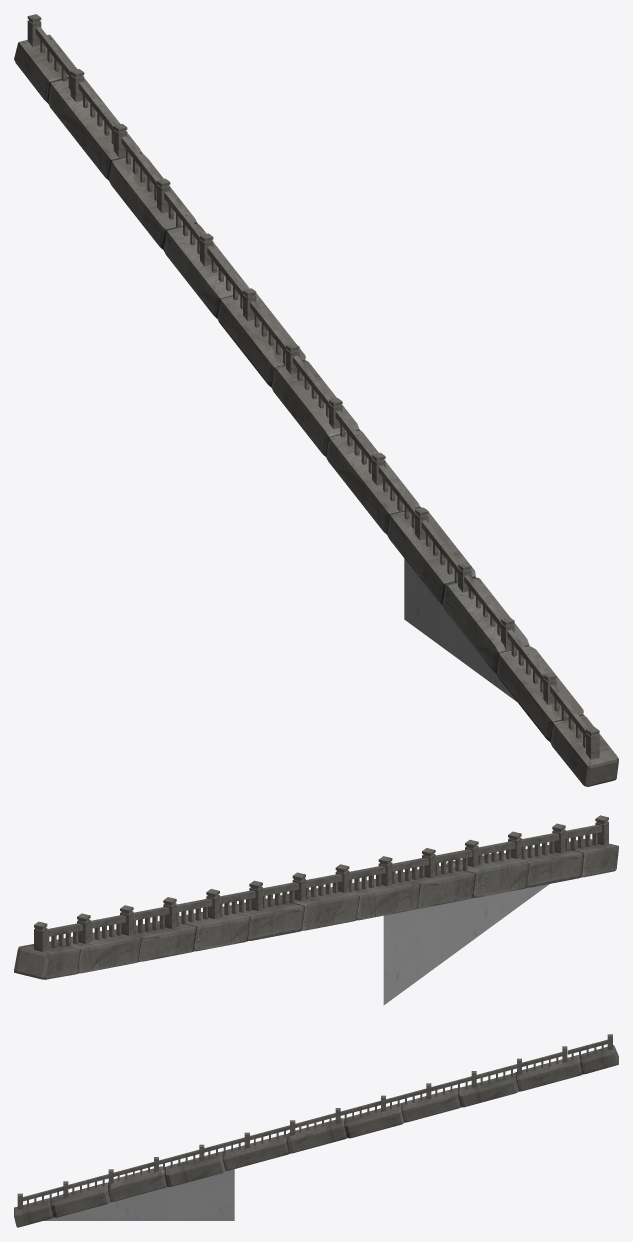
The model's file is SM_ENV_KNVLLG_Wall_11.fbx.
3 renders of one model, top to bottom at view 1: azimuth 30°, elevation 25°; view 2: azimuth 150°, elevation 25°; view 3: azimuth 270°, elevation 25°, orthographic. The views are drawn at different scales.
Parts seen in each view (by area): view 1: SM_ENV_KNVLLG_Wall_11.mo; view 2: SM_ENV_KNVLLG_Wall_11.mo; view 3: SM_ENV_KNVLLG_Wall_11.mo.
Part boxes in pixels (x1,y1,x2,y2): SM_ENV_KNVLLG_Wall_11.mo: (14,14,618,786); SM_ENV_KNVLLG_Wall_11.mo: (14,815,618,1005); SM_ENV_KNVLLG_Wall_11.mo: (14,1034,618,1227).
Size of the model in its own units: 169 by 1617 by 4724.
